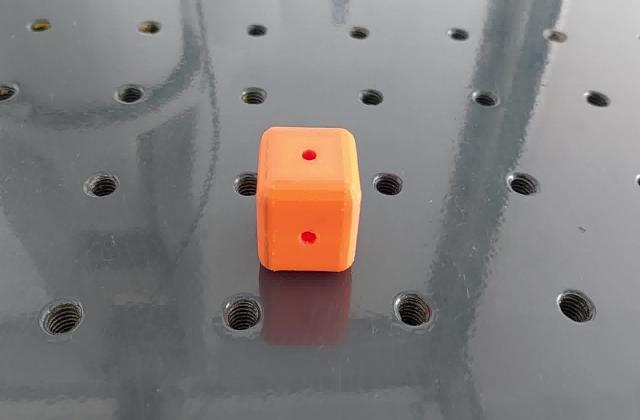cube: (253, 122, 365, 276)
